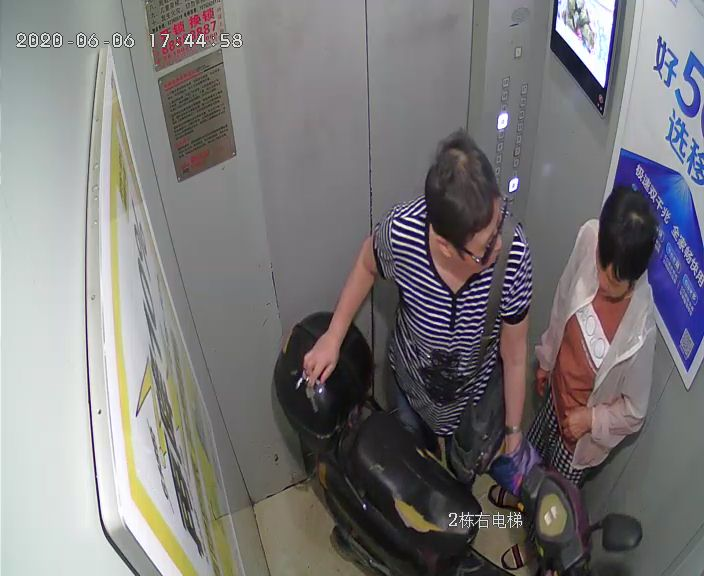Electric-bicycle: (272, 312, 639, 576)
